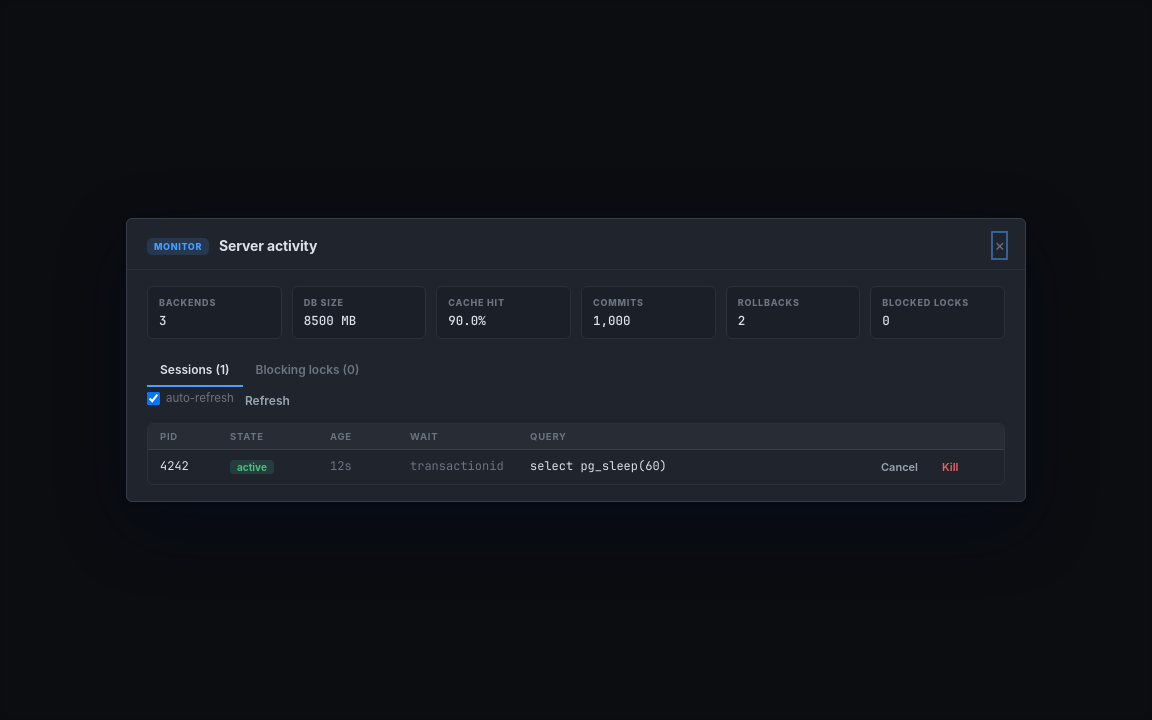
Test case: MonitorModal — sessions › names the backend it is about to kill, not just the pid
Click the button "Kill": (950, 467) [933,456,968,478]
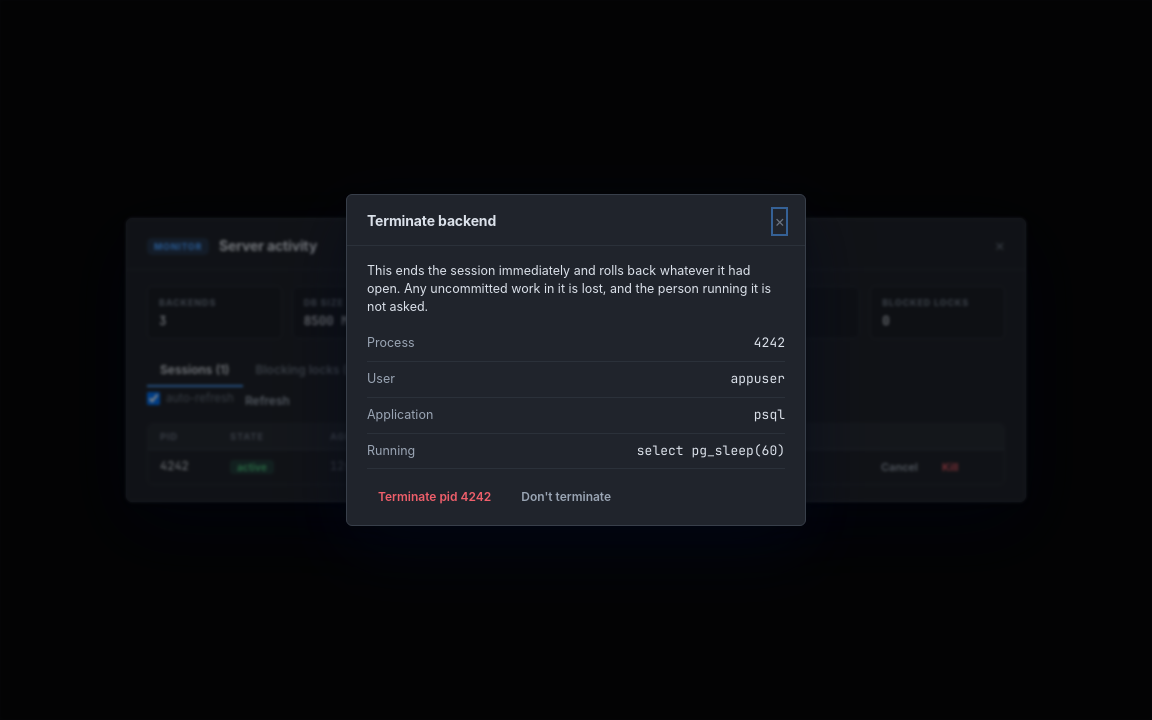
Expected: the text "4242" next to "active" is shown, [160,458,189,474]
Result: the text "uncommitted work in it is lost" is shown at [367,263,771,314]
